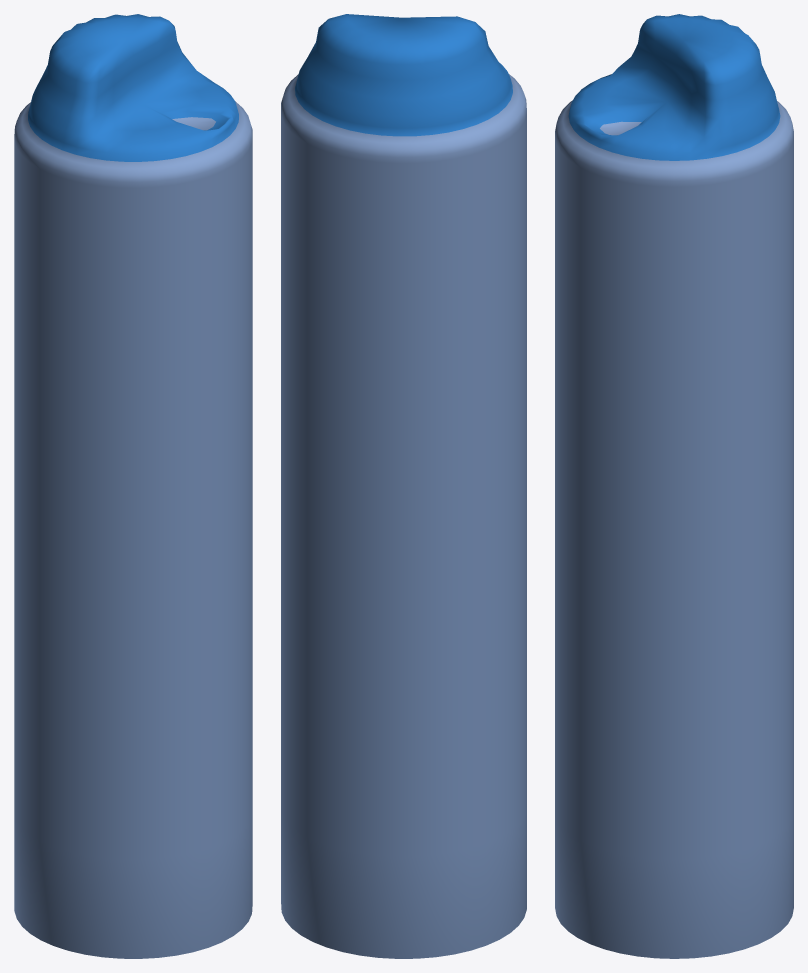
Rendered from 3D Water Bottle.fbx.
3 renders of one model, left to right at view 1: azimuth 30°, elevation 25°; view 2: azimuth 150°, elevation 25°; view 3: azimuth 270°, elevation 25°, orthographic. The views are drawn at different scales.
Visible parts, largest first — view 1: pCylinder8; view 2: pCylinder8; view 3: pCylinder8.
Part boxes in pixels (<box>): pCylinder8: <box>14,14,252,958</box>; pCylinder8: <box>281,14,526,958</box>; pCylinder8: <box>555,14,793,958</box>.
Size of the model in its own units: 0.6754 by 2.73 by 0.6754.
